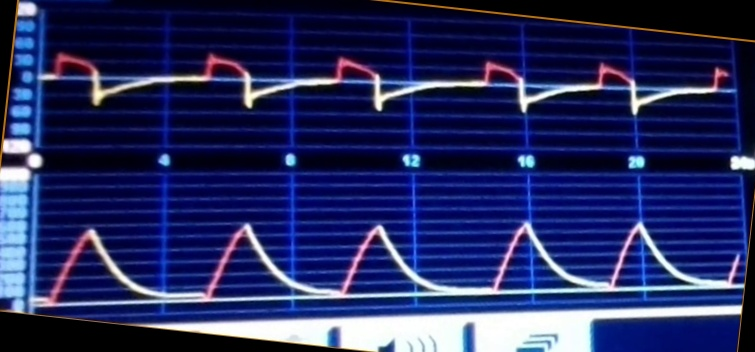Normal Flow: (45, 41, 728, 141)
Normal Volume: (37, 205, 739, 307)
